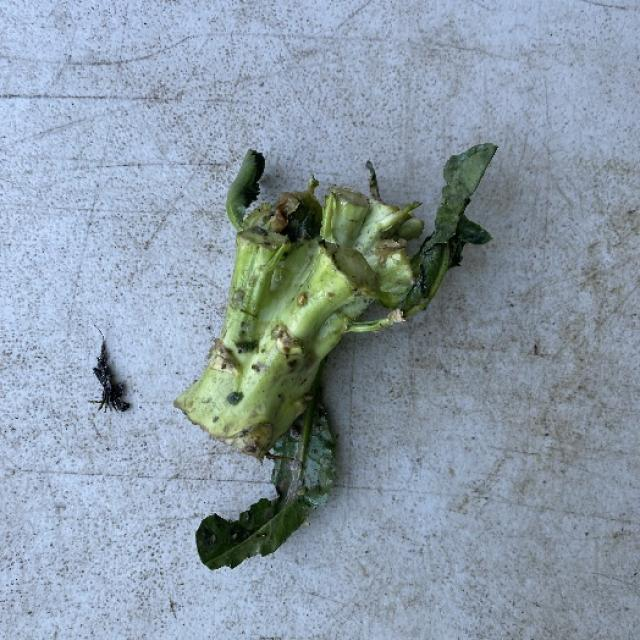organik: (155, 156, 490, 540)
